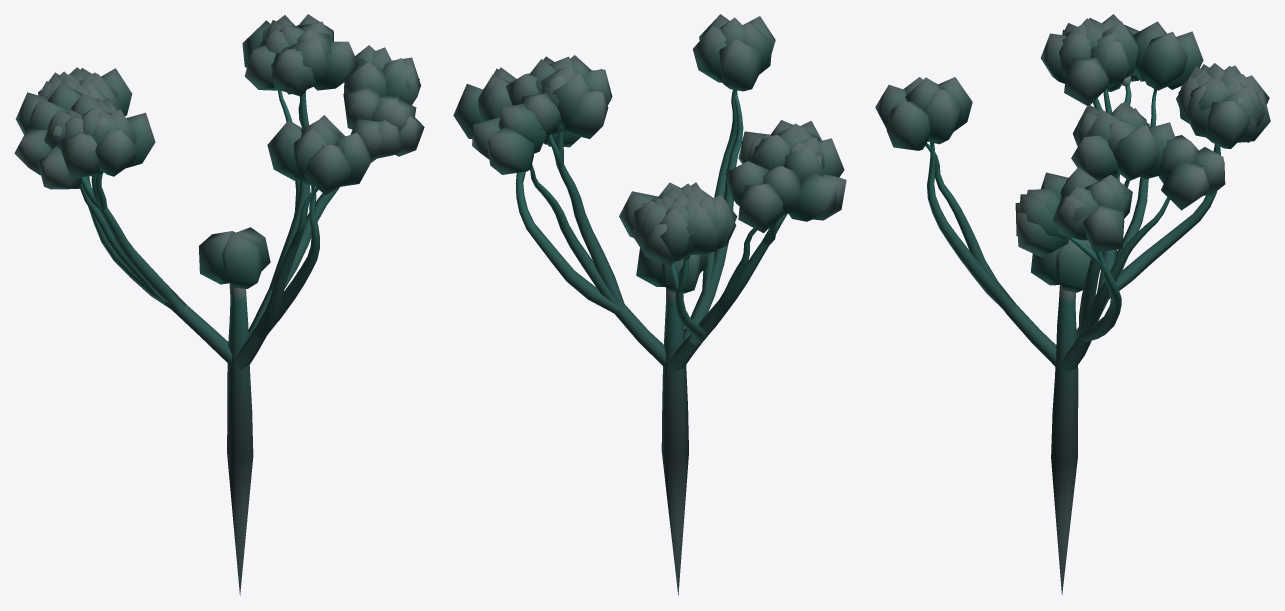
The model's file is plants-flowers-teal-cluster-flower_v7.glb.
3 views of the same model, side by side, from view 1: azimuth 30°, elevation 25°; view 2: azimuth 150°, elevation 25°; view 3: azimuth 270°, elevation 25° (orthographic).
Visible parts, largest first — view 1: Teal Cluster Flower_v7; view 2: Teal Cluster Flower_v7; view 3: Teal Cluster Flower_v7.
Boxes of the visible parts, x1,y1,x2,y2 form: Teal Cluster Flower_v7: (14, 14, 424, 595); Teal Cluster Flower_v7: (453, 14, 846, 595); Teal Cluster Flower_v7: (875, 14, 1270, 595).
Size of the model in its own units: 0.4556 by 0.6 by 0.4047.
